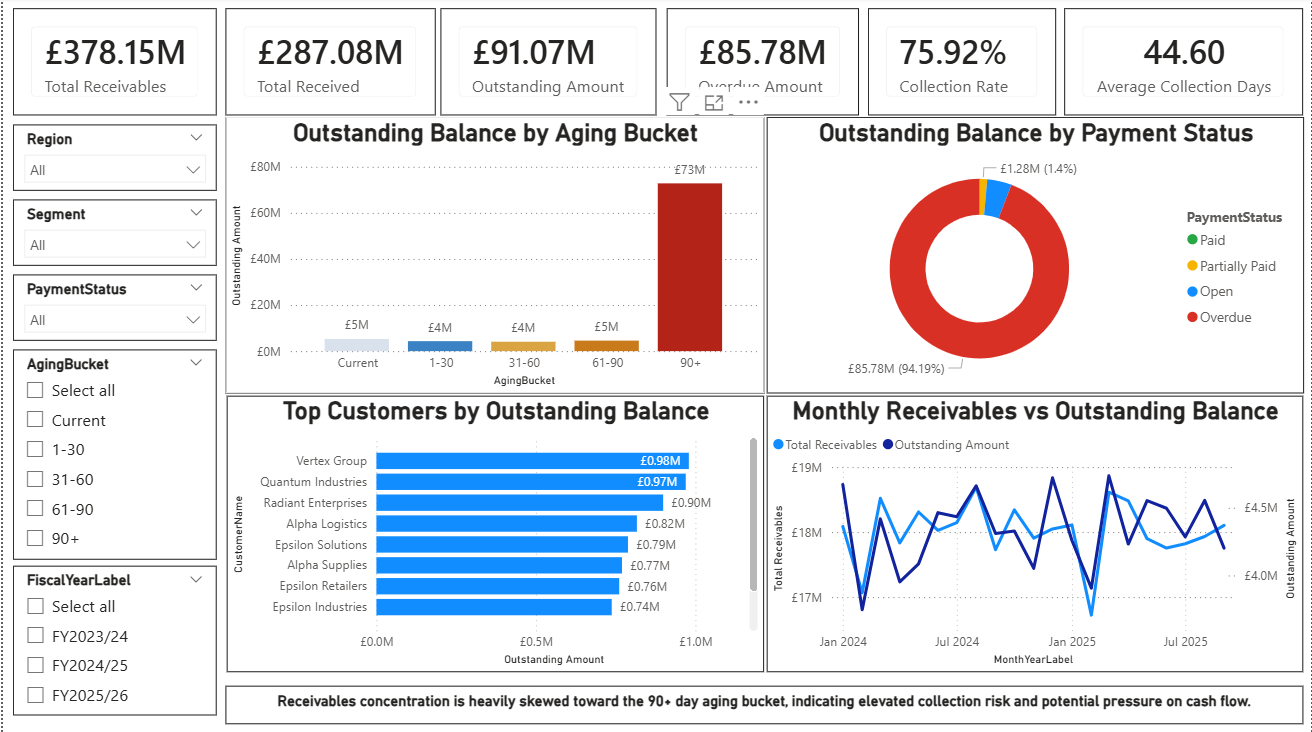

This screenshot's page, from the dashboard's own definition file:
{"tool":"powerbi","page":{"name":"Executive Summary","canvas":[1280,720],"ordinal":0},"visuals":[{"type":"cardVisual","fields":{"Data":["_Measure.Total Receivables"]},"box":[9.8,11,199.3,105],"z":0},{"type":"cardVisual","fields":{"Data":["_Measure.Total Received"]},"box":[217.7,11,205.4,105],"z":1000},{"type":"cardVisual","fields":{"Data":["_Measure.Outstanding Amount"]},"box":[428,11,211.6,105],"z":2000},{"type":"cardVisual","fields":{"Data":["_Measure.Overdue Amount"]},"box":[649.3,11,188.3,105],"z":3000},{"type":"cardVisual","fields":{"Data":["_Measure.Collection Rate %"]},"box":[846.2,11,184,105],"z":4000},{"type":"cardVisual","fields":{"Data":["_Measure.Average Collection Period"]},"box":[1038.2,11,233.6,105],"z":5000},{"type":"slicer","fields":{"Values":["DimCustomer.Region"]},"box":[9.8,124.7,199.3,64.8],"z":6000},{"type":"slicer","fields":{"Values":["DimCustomer.Segment"]},"box":[9.8,198.1,199.3,64.8],"z":7000},{"type":"slicer","fields":{"Values":["DimPaymentStatus.PaymentStatus"]},"box":[9.8,271.5,199.3,64.8],"z":8000},{"type":"slicer","fields":{"Values":["Fact_AR_Invoices.AgingBucket"]},"box":[10.1,344.3,199,205.4],"z":9000},{"type":"slicer","fields":{"Values":["DimDate.FiscalYearLabel"]},"box":[10.1,557,199,146.1],"z":10000},{"type":"clusteredColumnChart","title":"Outstanding Balance by Aging Bucket","fields":{"Category":["Fact_AR_Invoices.AgingBucket"],"Y":["_Measure.Outstanding Amount"]},"box":[217.7,117.4,527,270.2],"z":11000},{"type":"clusteredBarChart","title":"Top Customers by Outstanding Balance","fields":{"Category":["DimCustomer.CustomerName"],"Y":["_Measure.Outstanding Amount"]},"box":[218.9,390.1,525.8,270.2],"z":12000},{"type":"donutChart","title":"Outstanding Balance by Payment Status","fields":{"Category":["DimPaymentStatus.PaymentStatus"],"Y":["_Measure.Outstanding Amount"]},"box":[747.2,117.4,525.8,270.2],"z":13000},{"type":"lineChart","title":"Monthly Receivables vs Outstanding Balance","fields":{"Category":["DimDate.MonthYearLabel"],"Y":["_Measure.Total Receivables"],"Y2":["_Measure.Outstanding Amount"]},"box":[747.2,390.1,524.6,270],"z":14000},{"type":"textbox","box":[217.7,673.8,1054.1,37.9],"z":15000}]}

Visuals, with their boxes in screenshot pixels (x1, y1, x2, y2), scaled from the page's 1280x720 canvas onto the 1312x732 screenshot:
cardVisual - _Measure.Total Receivables: select_region(10, 11, 214, 118)
cardVisual - _Measure.Total Received: select_region(223, 11, 434, 118)
cardVisual - _Measure.Outstanding Amount: select_region(439, 11, 656, 118)
cardVisual - _Measure.Overdue Amount: select_region(666, 11, 859, 118)
cardVisual - _Measure.Collection Rate %: select_region(867, 11, 1056, 118)
cardVisual - _Measure.Average Collection Period: select_region(1064, 11, 1304, 118)
slicer - DimCustomer.Region: select_region(10, 127, 214, 193)
slicer - DimCustomer.Segment: select_region(10, 201, 214, 267)
slicer - DimPaymentStatus.PaymentStatus: select_region(10, 276, 214, 342)
slicer - Fact_AR_Invoices.AgingBucket: select_region(10, 350, 214, 559)
slicer - DimDate.FiscalYearLabel: select_region(10, 566, 214, 715)
"Outstanding Balance by Aging Bucket" clusteredColumnChart: select_region(223, 119, 763, 394)
"Top Customers by Outstanding Balance" clusteredBarChart: select_region(224, 397, 763, 671)
"Outstanding Balance by Payment Status" donutChart: select_region(766, 119, 1305, 394)
"Monthly Receivables vs Outstanding Balance" lineChart: select_region(766, 397, 1304, 671)
textbox: select_region(223, 685, 1304, 724)
